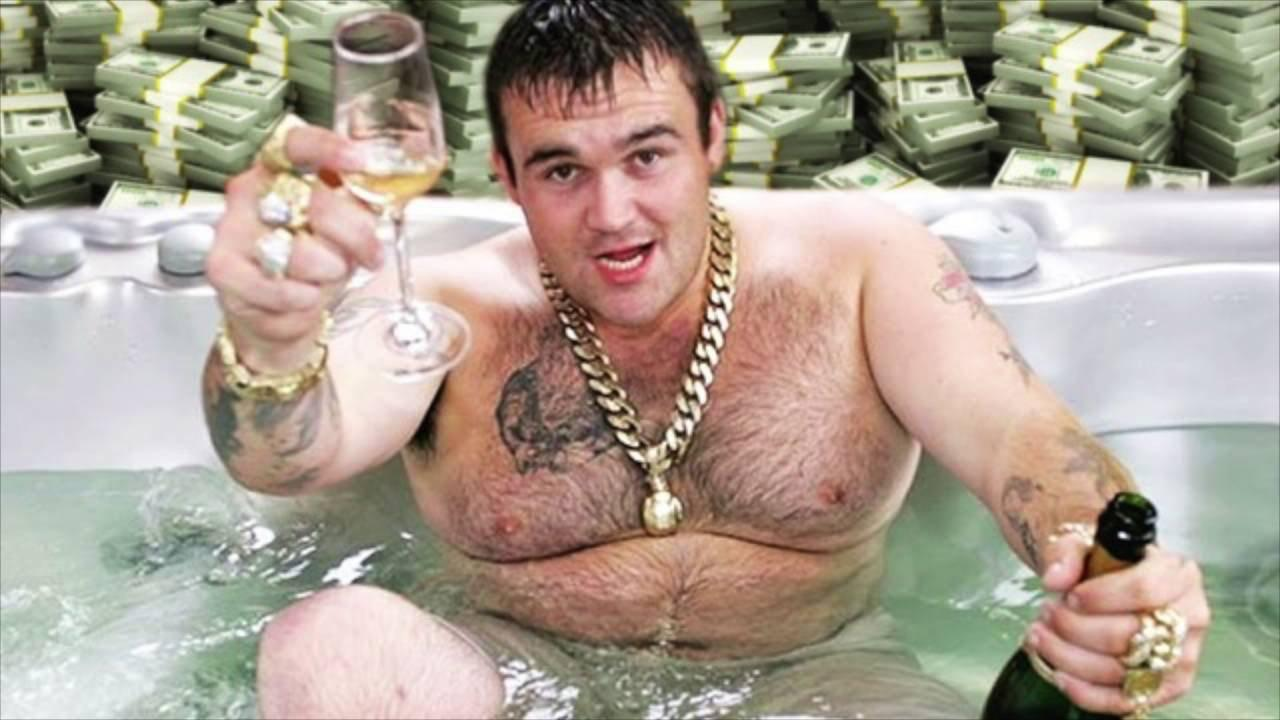Drunk: (502, 52, 710, 317)
